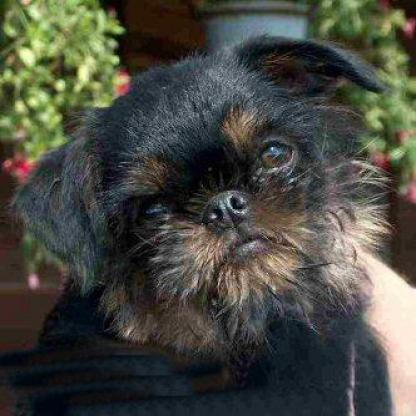Brabancon_griffon: (1, 31, 393, 414)
